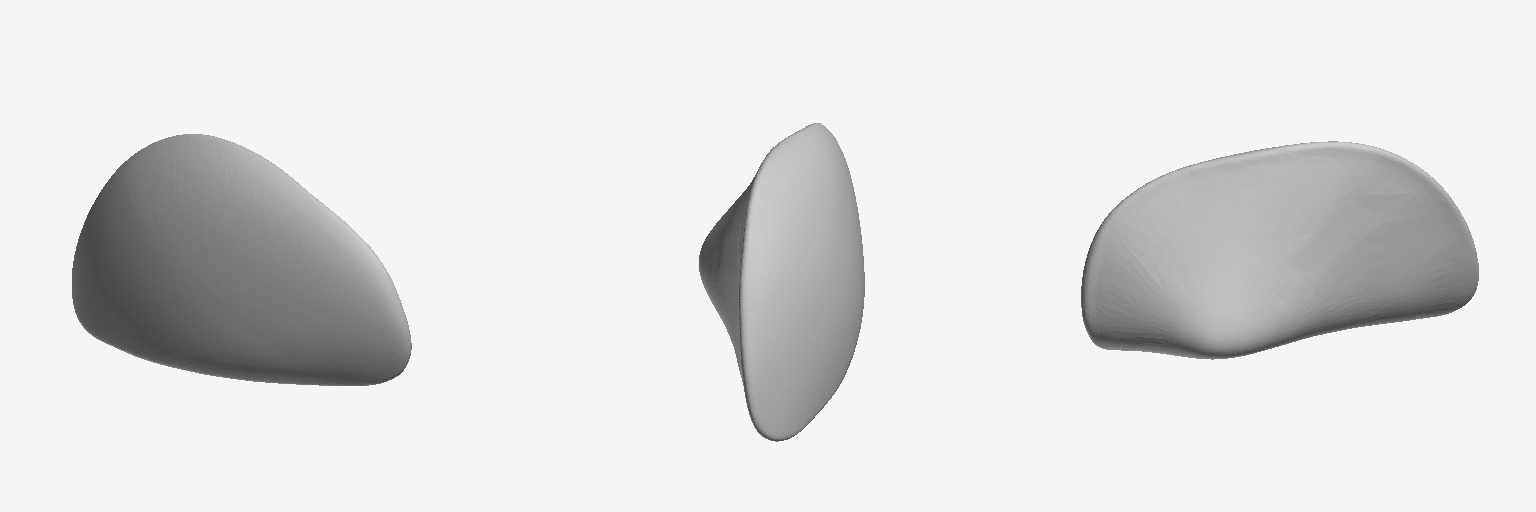
The model's file is Left_globus_pallidus.obj.
3 renders of one model, left to right at view 1: azimuth 30°, elevation 25°; view 2: azimuth 150°, elevation 25°; view 3: azimuth 270°, elevation 25°, orthographic.
Visible parts, largest first — view 1: obj0; view 2: obj0; view 3: obj0.
Part boxes in pixels (left/top/right/bottom): obj0: left=72, top=134, right=411, bottom=385; obj0: left=699, top=123, right=864, bottom=441; obj0: left=1081, top=141, right=1478, bottom=359.
Size of the model in its own units: 7.98 by 8.25 by 13.96.